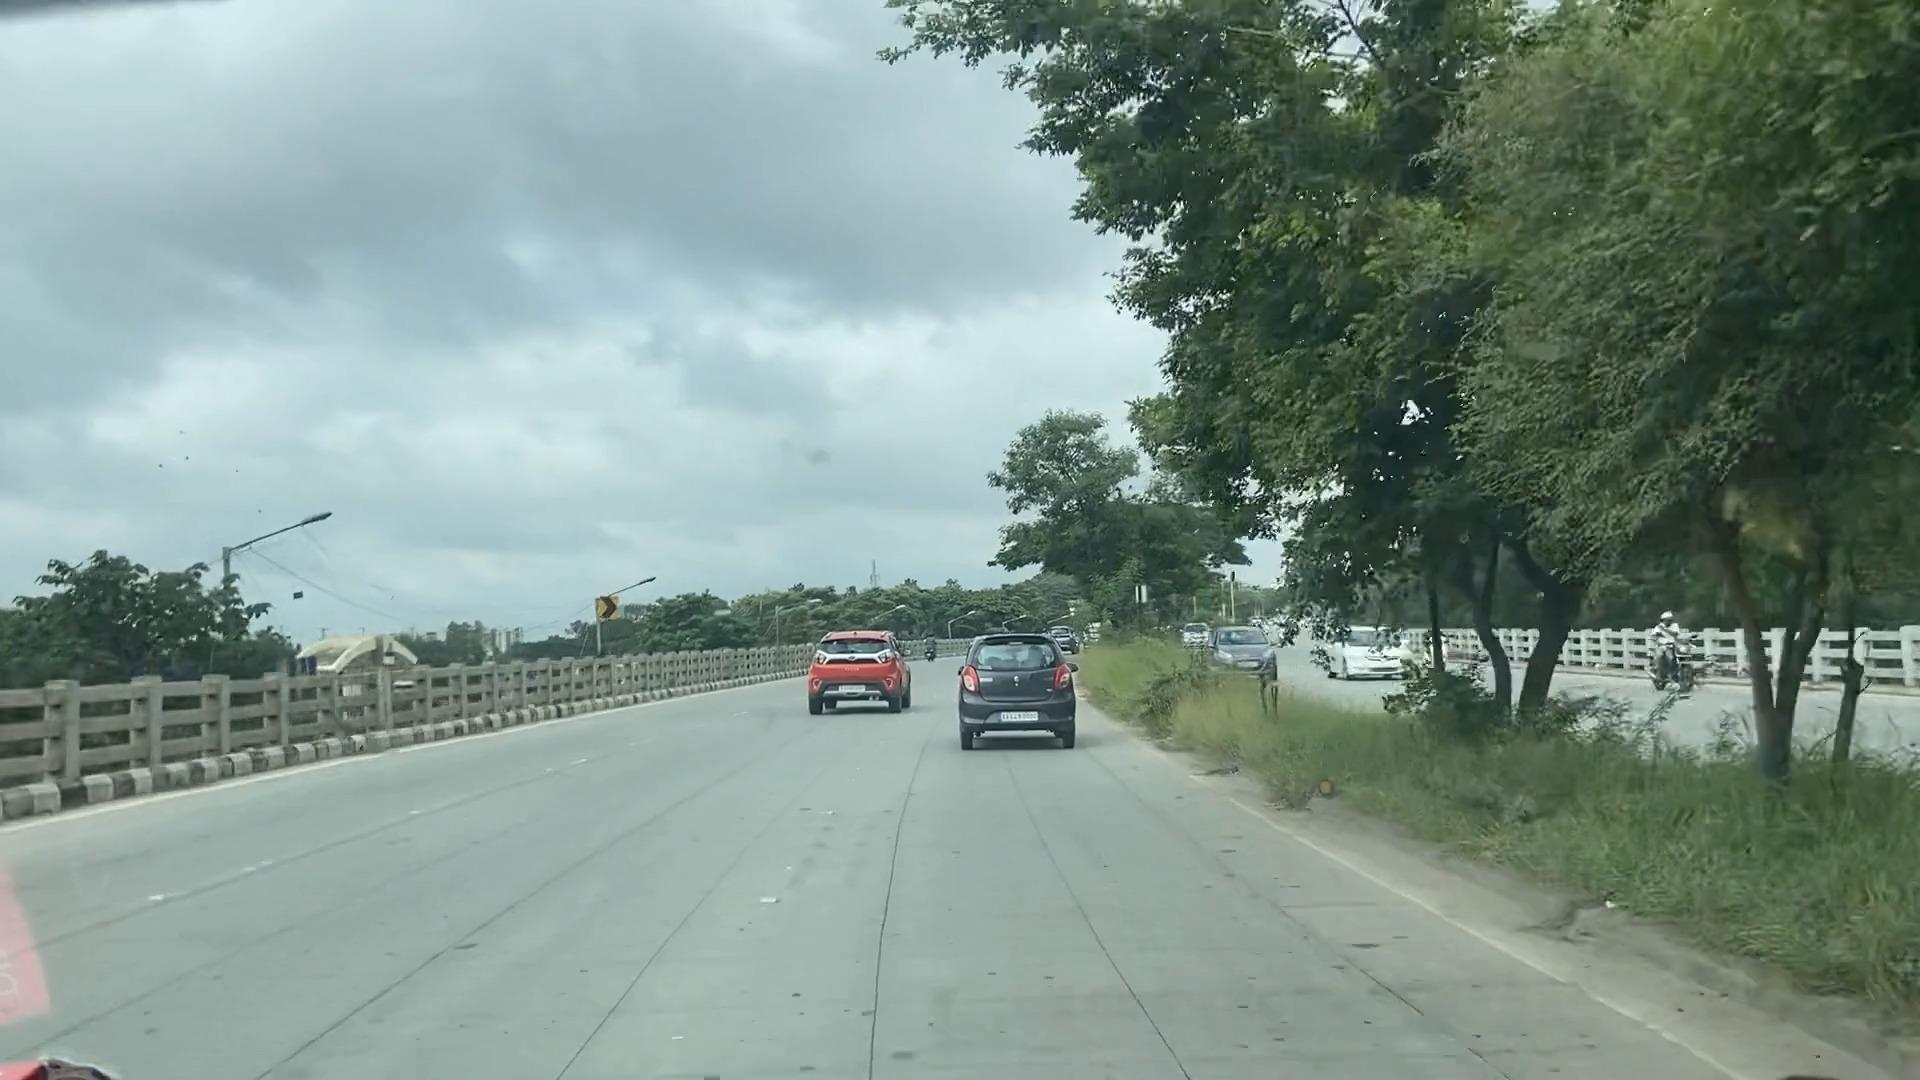LMV: (963, 624, 1075, 756), (816, 628, 910, 695)
